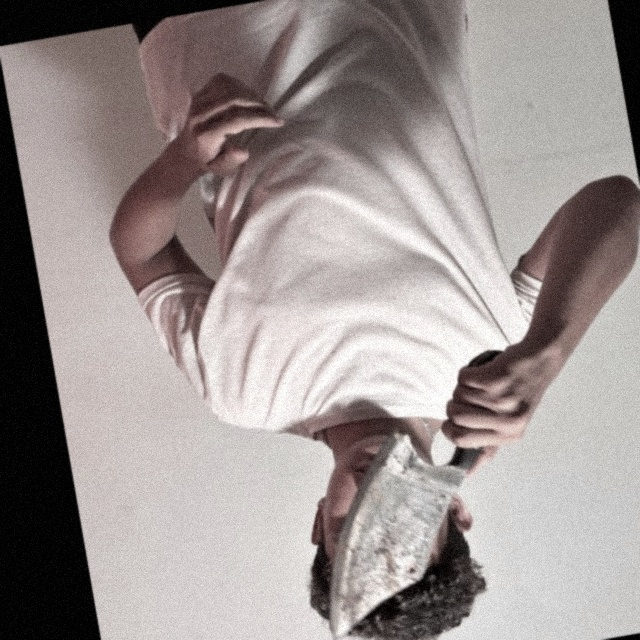Sharp-Object: (300, 420, 480, 638)
